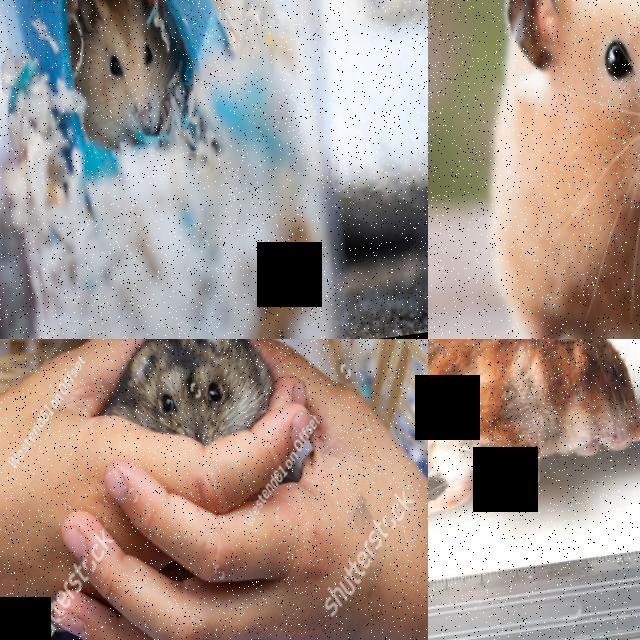hamster: (443, 0, 640, 339), (428, 339, 640, 592), (95, 339, 286, 457), (66, 0, 194, 155)
